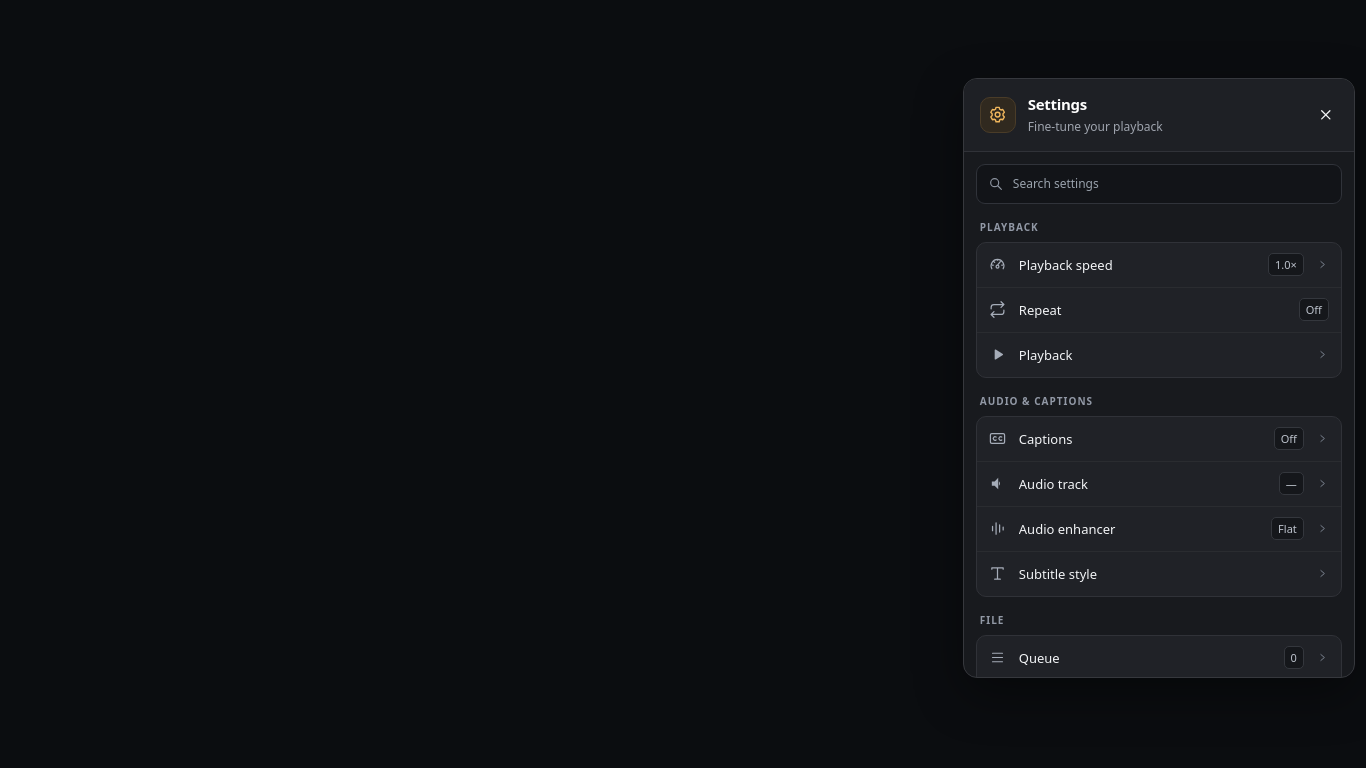
Test: SettingsPopup › keeps all speed chips including 3.0 in one chip list
Click the button "Playback speed 1.0×" at (1066, 264), box left=977, top=242, right=1341, bottom=286
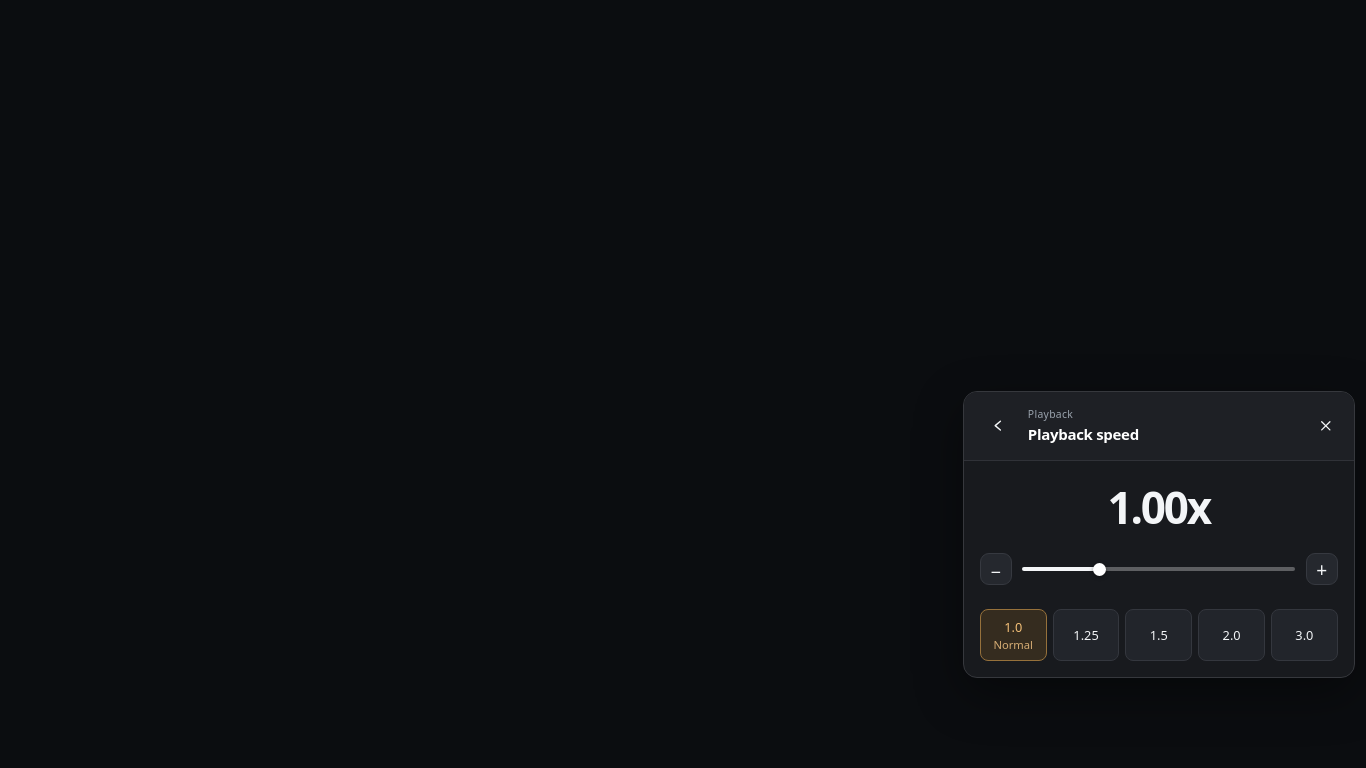
Now the list with class "speed-chips" is shown, box left=980, top=609, right=1338, bottom=661
Now the list with class "speed-chips" shows "3.0", box left=1271, top=609, right=1338, bottom=661
Now the number of list items with class "speed-chip" is 5, box left=980, top=609, right=1047, bottom=661; left=1053, top=609, right=1119, bottom=661; left=1125, top=609, right=1192, bottom=661; left=1198, top=609, right=1265, bottom=661; left=1271, top=609, right=1338, bottom=661
